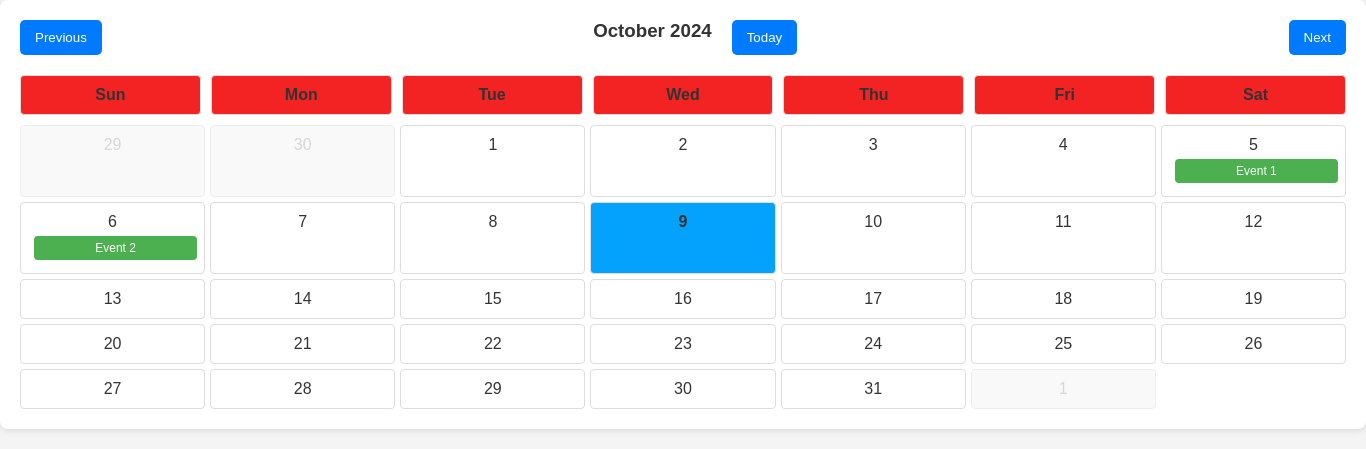
Test case: Calendar Component › navigates between months
Click the button "Next": (1317,38) [1289,20,1346,55]
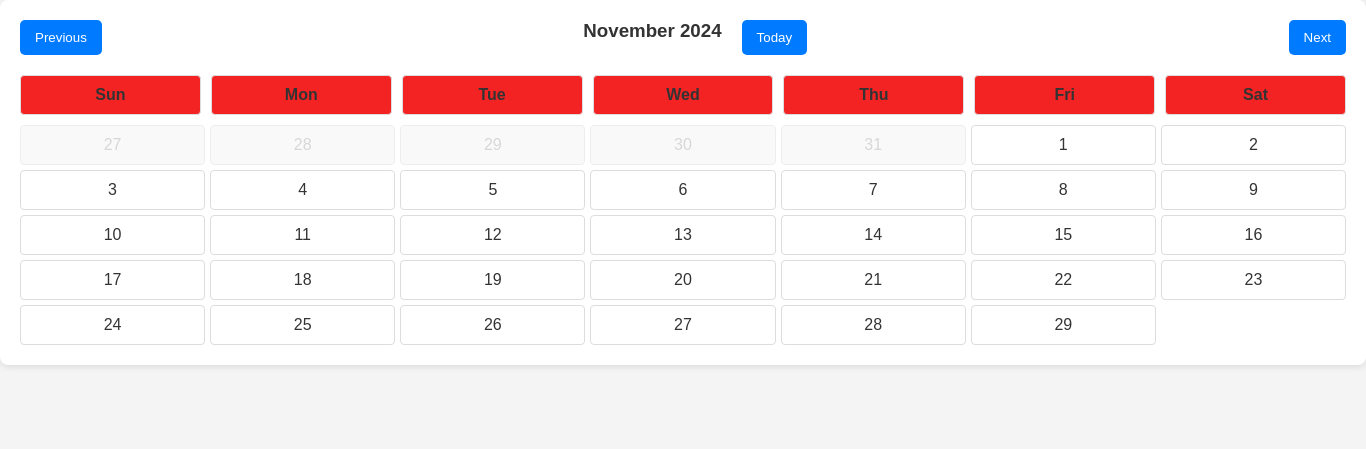
Now the heading "November 2024" is shown, box [583,20,722,55]
Click the button "Previous": (61,38) [20,20,102,55]
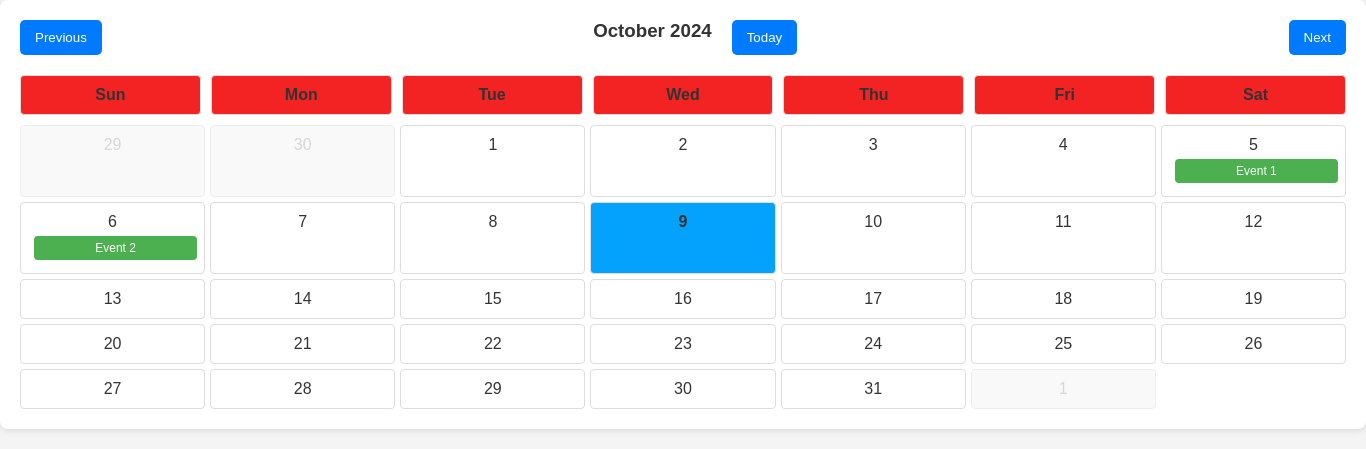
Now the heading "October 2024" is shown, box [593,20,712,55]
